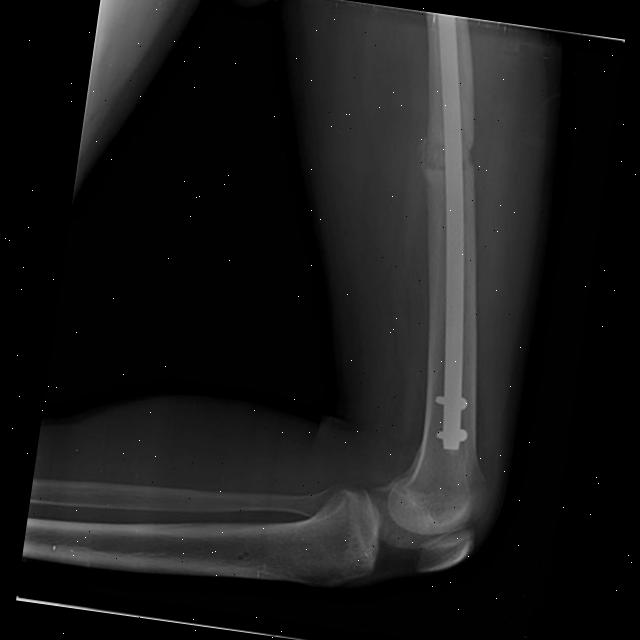Fracture: (413, 128, 445, 196), (462, 128, 476, 192)
